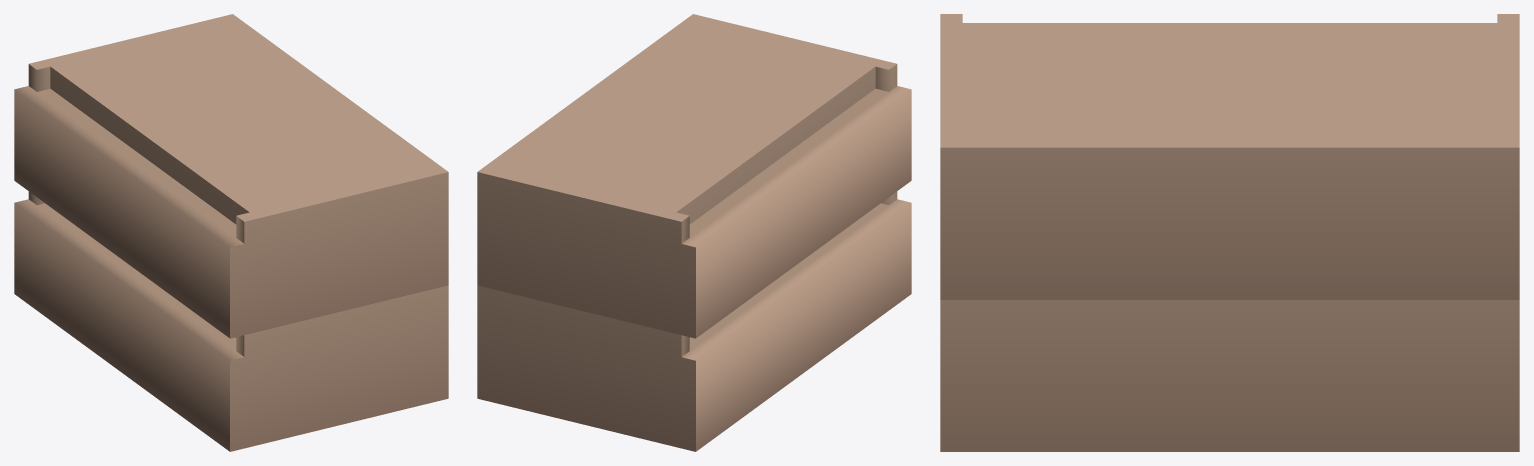
File: sink-hanging-cabinets-no-sink (%wall).glb
3 views of the same model, side by side, from view 1: azimuth 30°, elevation 25°; view 2: azimuth 150°, elevation 25°; view 3: azimuth 270°, elevation 25° (orthographic). The views are drawn at different scales.
Parts seen in each view (by area): view 1: sink-hanging-cabinets-no-sink (%wall); view 2: sink-hanging-cabinets-no-sink (%wall); view 3: sink-hanging-cabinets-no-sink (%wall).
Boxes of the visible parts, bbox=[...] form: sink-hanging-cabinets-no-sink (%wall): bbox=[14, 14, 448, 451]; sink-hanging-cabinets-no-sink (%wall): bbox=[477, 14, 911, 451]; sink-hanging-cabinets-no-sink (%wall): bbox=[940, 14, 1519, 451].
Bounding box in the file's own units: 0.4037 × 0.4 × 0.6905.
